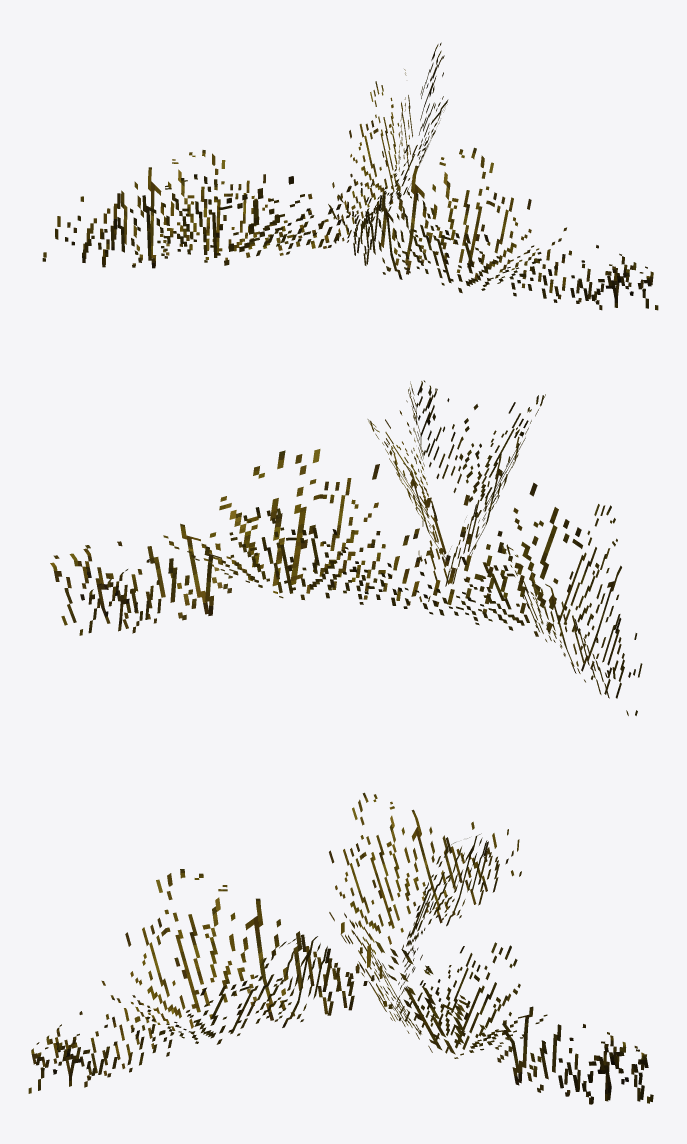
File: M6_Grasses2.glb
The picture shows the model from 3 angles, top to bottom: view 1: azimuth 30°, elevation 25°; view 2: azimuth 150°, elevation 25°; view 3: azimuth 270°, elevation 25°; orthographic projection. The views are drawn at different scales.
Parts seen in each view (by area): view 1: M6_GRASSES2; view 2: M6_GRASSES2; view 3: M6_GRASSES2.
Part boxes in pixels (bbox=[...]): M6_GRASSES2: bbox=[42, 42, 658, 310]; M6_GRASSES2: bbox=[50, 380, 642, 715]; M6_GRASSES2: bbox=[28, 792, 653, 1104].
Bounding box in the file's own units: 3.72 × 1.09 × 3.66.
1 material, 1 textured.
